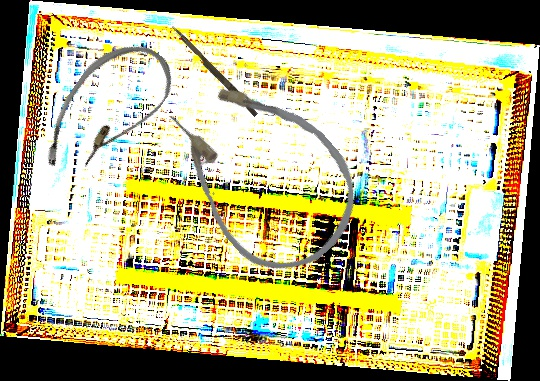Cannula: (142, 47, 383, 296), (29, 25, 185, 198)
Pusher: (168, 25, 260, 117)
